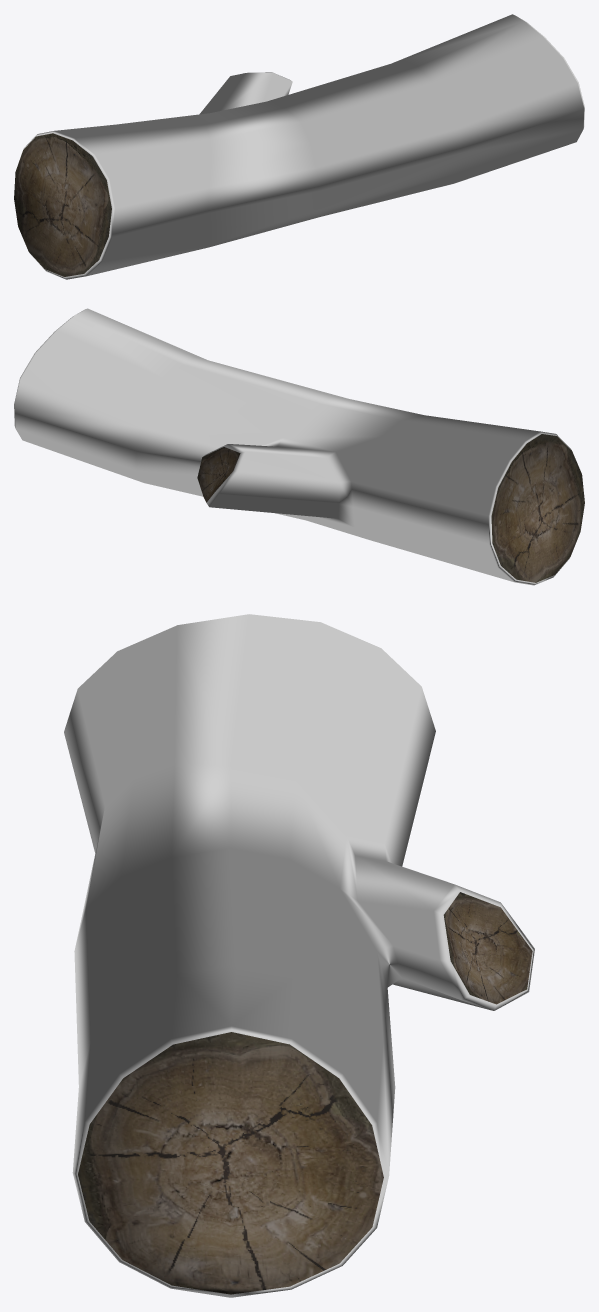
File: arden_forest_bench_02.fbx
3 renders of one model, top to bottom at view 1: azimuth 30°, elevation 25°; view 2: azimuth 150°, elevation 25°; view 3: azimuth 270°, elevation 25°, orthographic. The views are drawn at different scales.
Visible parts, largest first — view 1: arden_forest_bench_02; view 2: arden_forest_bench_02; view 3: arden_forest_bench_02.
Part boxes in pixels (left/top/right/bottom): arden_forest_bench_02: left=14, top=14, right=584, bottom=279; arden_forest_bench_02: left=14, top=308, right=584, bottom=585; arden_forest_bench_02: left=64, top=614, right=534, bottom=1297.
Bounding box in the file's own units: 1.83 × 0.7419 × 0.4801.
